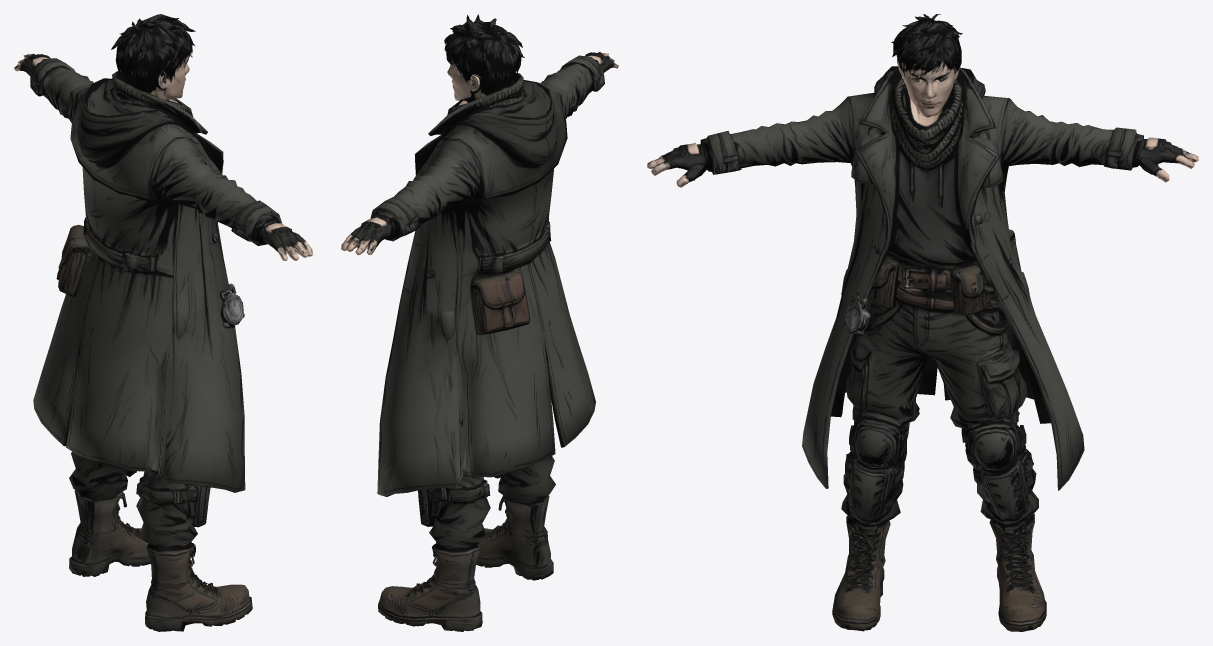
3 renders of one model, left to right at view 1: azimuth 30°, elevation 25°; view 2: azimuth 150°, elevation 25°; view 3: azimuth 270°, elevation 25°, orthographic. The views are drawn at different scales.
Parts seen in each view (by area): view 1: tripo_node_a3eeb382-82f9-4418-9002-fdf9a648d4be; view 2: tripo_node_a3eeb382-82f9-4418-9002-fdf9a648d4be; view 3: tripo_node_a3eeb382-82f9-4418-9002-fdf9a648d4be.
Boxes of the visible parts, x1,y1,x2,y2 form: tripo_node_a3eeb382-82f9-4418-9002-fdf9a648d4be: [14, 14, 312, 631]; tripo_node_a3eeb382-82f9-4418-9002-fdf9a648d4be: [341, 14, 618, 631]; tripo_node_a3eeb382-82f9-4418-9002-fdf9a648d4be: [647, 14, 1198, 631].
Bounding box in the file's own units: 0.2637 × 0.998 × 0.8496.
1 material, 1 textured.
